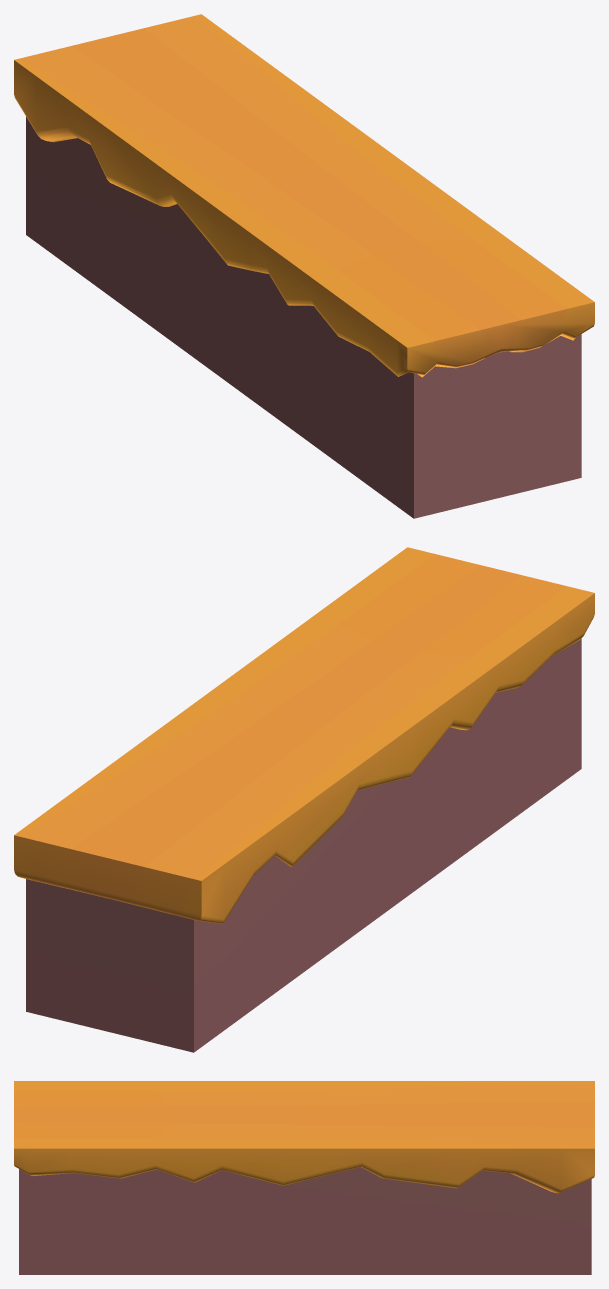
Rendered from Autumn Platform.fbx.
3 views of the same model, one above another, from view 1: azimuth 30°, elevation 25°; view 2: azimuth 150°, elevation 25°; view 3: azimuth 270°, elevation 25° (orthographic). The views are drawn at different scales.
Visible parts, largest first — view 1: Autumn Platform; view 2: Autumn Platform; view 3: Autumn Platform.
Part boxes in pixels (x1=…): Autumn Platform: x1=14, y1=14, x2=594, y2=518; Autumn Platform: x1=14, y1=547, x2=594, y2=1052; Autumn Platform: x1=14, y1=1081, x2=594, y2=1274.
Bounding box in the file's own units: 0.5582 × 0.5 × 2.03.
